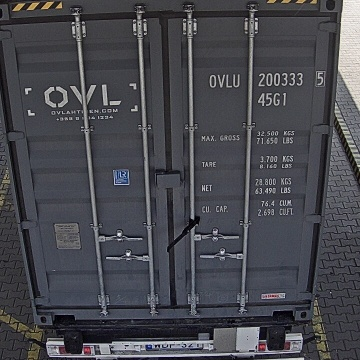serial_id: (209, 71, 325, 87)
